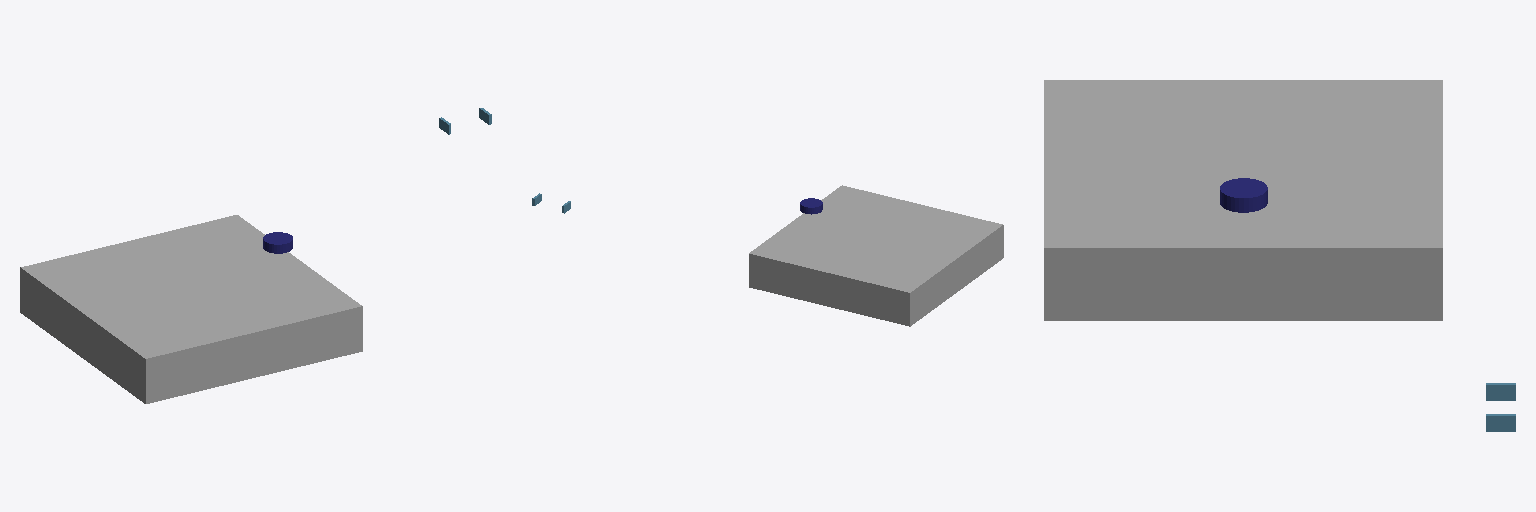
The robot description file, URDF, robot "ur5_robotiq_85":
<?xml version="1.0" ?>
<!-- =================================================================================== -->
<!-- |    This document was autogenerated by xacro from sisbot.xacro                   | -->
<!-- |    EDITING THIS FILE BY HAND IS NOT RECOMMENDED                                 | -->
<!-- =================================================================================== -->

<robot name="ur5_robotiq_85" xmlns:xacro="http://ros.org/wiki/xacro">

  <!-- <property name="mesh_prefix" value="../meshes"/> -->
  <!--################################################
  ########              arm                    #######
  ####################################################-->

  <link name="chassis_link">
    <visual>
      <geometry>
        <box size="0.5 0.5 0.1"/>
      </geometry>
      <material name="LightGrey">
        <color rgba="0.7 0.7 0.7 1.0"/>
      </material>
    </visual>
    <collision>
      <geometry>
        <box size="0.5 0.5 0.1"/>
      </geometry>
    </collision>
    <inertial>
      <mass value="20.0"/>
      <origin rpy="0 0 0" xyz="0.0 0.0 0.0"/>
      <inertia ixx="0.05" ixy="0.0" ixz="0.0" iyy="0.05" iyz="0.0" izz="0.1"/>
    </inertial>
  </link>

  <joint name="chassis_joint" type="fixed">
    <parent link="chassis_link"/>
    <child link="base_link"/>
    <origin rpy="0.0 0.0 0.0" xyz="0.0 0.0 0.1"/>
  </joint>

  <link name="lidar_link">
    <visual>
      <geometry>
        <cylinder length="0.02" radius="0.03"/>
      </geometry>
      <material name="blue">
        <color rgba="0.2 0.2 0.5 1.0"/>
      </material>
    </visual>
    <inertial>
      <mass value="40.0"/>
      <origin rpy="0 0 0" xyz="0.0 0.0 0.0"/>
      <inertia ixx="0.05" ixy="0.0" ixz="0.0" iyy="0.05" iyz="0.0" izz="0.1"/>
    </inertial>
  </link>

  <joint name="lidar_joint" type="fixed">
    <parent link="chassis_link"/>
    <child link="lidar_link"/>
    <origin rpy="0.0 0.0 0.0" xyz="0.2 0.0 0.1"/>
  </joint>

  <link name="base_link">
    <visual>
      <geometry>
        <mesh filename="../meshes/ur5/visual/base.obj"/>
      </geometry>
      <material name="LightGrey">
        <color rgba="0.7 0.7 0.7 1.0"/>
      </material>
    </visual>
    <collision>
      <geometry>
        <mesh filename="../meshes/ur5/collision/base.stl"/>
      </geometry>
    </collision>
    <inertial>
      <mass value="4.0"/>
      <origin rpy="0 0 0" xyz="0.0 0.0 0.0"/>
      <inertia ixx="0.00443333156" ixy="0.0" ixz="0.0" iyy="0.00443333156" iyz="0.0" izz="0.0072"/>
    </inertial>
  </link>

  <joint name="shoulder_pan_joint" type="revolute">
    <parent link="base_link"/>
    <child link="shoulder_link"/>
    <origin rpy="0.0 0.0 0.0" xyz="0.0 0.0 0.089159"/>
    <axis xyz="0 0 1"/>
    <limit effort="150.0" lower="-3.14159265359" upper="3.14159265359" velocity="3.15"/>
    <dynamics damping="0.0" friction="0.0"/>
  </joint>
  <link name="shoulder_link">
    <visual>
      <geometry>
        <mesh filename="../meshes/ur5/visual/shoulder.obj"/>
      </geometry>
      <material name="UR-Blue">
        <color rgba="0.376 0.576 0.674 1.0"/>
      </material>
    </visual>
    <collision>
      <geometry>
        <mesh filename="../meshes/ur5/collision/shoulder.stl"/>
      </geometry>
    </collision>
    <inertial>
      <mass value="3.7"/>
      <origin rpy="0 0 0" xyz="0.0 0.0 0.0"/>
      <inertia ixx="0.010267495893" ixy="0.0" ixz="0.0" iyy="0.010267495893" iyz="0.0" izz="0.00666"/>
    </inertial>
  </link>
  <joint name="shoulder_lift_joint" type="revolute">
    <parent link="shoulder_link"/>
    <child link="upper_arm_link"/>
    <origin rpy="0.0 1.57079632679 0.0" xyz="0.0 0.13585 0.0"/>
    <axis xyz="0 1 0"/>
    <limit effort="150.0" lower="-3.14159265359" upper="3.14159265359" velocity="3.15"/>
    <dynamics damping="0.0" friction="0.0"/>
  </joint>
  <link name="upper_arm_link">
    <visual>
      <geometry>
        <mesh filename="../meshes/ur5/visual/upperarm.obj"/>
      </geometry>
      <material name="LightGrey">
        <color rgba="0.7 0.7 0.7 1.0"/>
      </material>
    </visual>
    <collision>
      <geometry>
        <mesh filename="../meshes/ur5/collision/upperarm.stl"/>
      </geometry>
    </collision>
    <inertial>
      <mass value="8.393"/>
      <origin rpy="0 0 0" xyz="0.0 0.0 0.28"/>
      <inertia ixx="0.22689067591" ixy="0.0" ixz="0.0" iyy="0.22689067591" iyz="0.0" izz="0.0151074"/>
    </inertial>
  </link>
  <joint name="elbow_joint" type="revolute">
    <parent link="upper_arm_link"/>
    <child link="forearm_link"/>
    <origin rpy="0.0 0.0 0.0" xyz="0.0 -0.1197 0.425"/>
    <axis xyz="0 1 0"/>
    <limit effort="150.0" lower="-3.14159265359" upper="3.14159265359" velocity="3.15"/>
    <dynamics damping="0.0" friction="0.0"/>
  </joint>
  <link name="forearm_link">
    <visual>
      <geometry>
        <mesh filename="../meshes/ur5/visual/forearm.obj"/>
      </geometry>
      <material name="LightGrey">
        <color rgba="0.7 0.7 0.7 1.0"/>
      </material>
    </visual>
    <collision>
      <geometry>
        <mesh filename="../meshes/ur5/collision/forearm.stl"/>
      </geometry>
    </collision>
    <inertial>
      <mass value="2.275"/>
      <origin rpy="0 0 0" xyz="0.0 0.0 0.25"/>
      <inertia ixx="0.049443313556" ixy="0.0" ixz="0.0" iyy="0.049443313556" iyz="0.0" izz="0.004095"/>
    </inertial>
  </link>
  <joint name="wrist_1_joint" type="revolute">
    <parent link="forearm_link"/>
    <child link="wrist_1_link"/>
    <origin rpy="0.0 1.57079632679 0.0" xyz="0.0 0.0 0.39225"/>
    <axis xyz="0 1 0"/>
    <limit effort="28.0" lower="-3.14159265359" upper="3.14159265359" velocity="3.2"/>
    <dynamics damping="0.0" friction="0.0"/>
  </joint>
  <link name="wrist_1_link">
    <visual>
      <geometry>
        <mesh filename="../meshes/ur5/visual/wrist1.obj"/>
      </geometry>
      <material name="UR-Blue">
        <color rgba="0.376 0.576 0.674 1.0"/>
      </material>
    </visual>
    <collision>
      <geometry>
        <mesh filename="../meshes/ur5/collision/wrist1.stl"/>
      </geometry>
    </collision>
    <inertial>
      <mass value="1.219"/>
      <origin rpy="0 0 0" xyz="0.0 0.0 0.0"/>
      <inertia ixx="0.111172755531" ixy="0.0" ixz="0.0" iyy="0.111172755531" iyz="0.0" izz="0.21942"/>
    </inertial>
  </link>
  <joint name="wrist_2_joint" type="revolute">
    <parent link="wrist_1_link"/>
    <child link="wrist_2_link"/>
    <origin rpy="0.0 0.0 0.0" xyz="0.0 0.093 0.0"/>
    <axis xyz="0 0 1"/>
    <limit effort="28.0" lower="-3.14159265359" upper="3.14159265359" velocity="3.2"/>
    <dynamics damping="0.0" friction="0.0"/>
  </joint>
  <link name="wrist_2_link">
    <visual>
      <geometry>
        <mesh filename="../meshes/ur5/visual/wrist2.obj"/>
      </geometry>
      <material name="DarkGray">
        <color rgba="0.5 0.5 0.5 1.0"/>
      </material>
    </visual>
    <collision>
      <geometry>
        <mesh filename="../meshes/ur5/collision/wrist2.stl"/>
      </geometry>
    </collision>
    <inertial>
      <mass value="1.219"/>
      <origin rpy="0 0 0" xyz="0.0 0.0 0.0"/>
      <inertia ixx="0.111172755531" ixy="0.0" ixz="0.0" iyy="0.111172755531" iyz="0.0" izz="0.21942"/>
    </inertial>
  </link>
  <joint name="wrist_3_joint" type="revolute">
    <parent link="wrist_2_link"/>
    <child link="wrist_3_link"/>
    <origin rpy="0.0 0.0 0.0" xyz="0.0 0.0 0.09465"/>
    <axis xyz="0 1 0"/>
    <limit effort="28.0" lower="-3.14159265359" upper="3.14159265359" velocity="3.2"/>
    <dynamics damping="0.0" friction="0.0"/>
  </joint>
  <link name="wrist_3_link">
    <visual>
      <geometry>
        <mesh filename="../meshes/ur5/visual/wrist3.obj"/>
      </geometry>
      <material name="LightGrey">
        <color rgba="0.7 0.7 0.7 1.0"/>
      </material>
    </visual>
    <collision>
      <geometry>
        <mesh filename="../meshes/ur5/collision/wrist3.stl"/>
      </geometry>
    </collision>
    <inertial>
      <mass value="0.1879"/>
      <origin rpy="0 0 0" xyz="0.0 0.0 0.0"/>
      <inertia ixx="0.0171364731454" ixy="0.0" ixz="0.0" iyy="0.0171364731454" iyz="0.0" izz="0.033822"/>
    </inertial>
  </link>
  <joint name="ee_fixed_joint" type="fixed">
    <parent link="wrist_3_link"/>
    <child link="ee_link"/>
    <origin rpy="0.0 0.0 1.57079632679" xyz="0.0 0.0823 0.0"/>
  </joint>
  <link name="ee_link">
    <collision>
      <geometry>
        <box size="0.01 0.01 0.01"/>
      </geometry>
      <origin rpy="0 0 0" xyz="-0.01 0 0"/>
    </collision>
    <inertial>
      <mass value="0.01"/>
      <origin rpy="0 0 0" xyz="0.0 0.0 0.0"/>
      <inertia ixx="0.001" ixy="0.0" ixz="0.0" iyy="0.001" iyz="0.0" izz="0.001"/>
    </inertial>
  </link>

  <!--################################################
  ########              gripper                  #####
  ####################################################-->

  <link name="robotiq_arg2f_base_link">
    <inertial>
      <origin rpy="0 0 0" xyz="8.625E-08 -4.6583E-06 0.03145"/>
      <mass value="0.22652"/>
      <inertia ixx="0.00020005" ixy="-4.2442E-10" ixz="-2.9069E-10" iyy="0.00017832" iyz="-3.4402E-08" izz="0.00013478"/>
    </inertial>
    <visual>
      <origin rpy="0 0 0" xyz="0 0 0"/>
      <geometry>
        <mesh filename="../meshes/robotiq_85/visual/robotiq_arg2f_85_base_link.dae" scale="0.001 0.001 0.001"/>
      </geometry>
      <material name="LightGrey">
        <color rgba="0.7 0.7 0.7 1.0"/>
      </material>
    </visual>
    <collision>
      <origin rpy="0 0 0" xyz="0 0 0"/>
      <geometry>
        <mesh filename="../meshes/robotiq_85/collision/robotiq_arg2f_base_link.stl"/>
      </geometry>
    </collision>
  </link>
  <joint name="finger_joint" type="revolute">
    <origin rpy="0 0 3.14159265359" xyz="0 -0.0306011 0.054904"/>
    <parent link="robotiq_arg2f_base_link"/>
    <child link="left_outer_knuckle"/>
    <axis xyz="1 0 0"/>
    <limit effort="1000" lower="0" upper="0.8" velocity="2.0"/>
  </joint>
  <link name="left_outer_knuckle">
    <inertial>
        <origin xyz="-0.000200000000003065 0.0199435877845359 0.0292245259211331" rpy="0 0 0" />
        <mass value="0.00853198276973456" />
        <inertia ixx="2.89328108496468E-06" ixy="-1.57935047237397E-19" ixz="-1.93980378593255E-19" iyy="1.86719750325683E-06" iyz="-1.21858577871576E-06" izz="1.21905238907251E-06" />
        </inertial>
    <visual>
      <origin rpy="0 0 0" xyz="0 0 0"/>
      <geometry>
        <mesh filename="../meshes/robotiq_85/visual/robotiq_arg2f_85_outer_knuckle.dae" scale="0.001 0.001 0.001"/>
      </geometry>
      <material name="">
        <color rgba="1 1 0 1"/>
      </material>
    </visual>
    <collision>
      <origin rpy="0 0 0" xyz="0 0 0"/>
      <geometry>
        <mesh filename="../meshes/robotiq_85/collision/robotiq_arg2f_85_outer_knuckle.dae" scale="0.001 0.001 0.001"/>
      </geometry>
    </collision>
  </link>
  <joint name="left_outer_finger_joint" type="fixed">
    <origin rpy="0 0 0" xyz="0 0.0315 -0.0041"/>
    <parent link="left_outer_knuckle"/>
    <child link="left_outer_finger"/>
    <axis xyz="1 0 0"/>
  </joint>
  <link name="left_outer_finger">
    <inertial>
        <origin xyz="0.00030115855001899 0.0373907951953854 -0.0208027427000385" rpy="0 0 0" />
        <mass value="0.022614240507152" />
        <inertia ixx="1.52518312458174E-05" ixy="9.76583423954399E-10" ixz="-5.43838577022588E-10" iyy="6.17694243867776E-06" iyz="6.78636130740228E-06" izz="1.16494917907219E-05" />
        </inertial>
    <visual>
      <origin rpy="0 0 0" xyz="0 0 0"/>
      <geometry>
        <mesh filename="../meshes/robotiq_85/visual/robotiq_arg2f_85_outer_finger.dae" scale="0.001 0.001 0.001"/>
      </geometry>
      <material name="LightGrey">
        <color rgba="0 1 1 1.0"/>
      </material>
    </visual>
    <collision>
      <origin rpy="0 0 0" xyz="0 0 0"/>
      <geometry>
        <mesh filename="../meshes/robotiq_85/collision/robotiq_arg2f_85_outer_finger.dae" scale="0.001 0.001 0.001"/>
      </geometry>
    </collision>
  </link>
  <joint name="left_inner_finger_joint" type="revolute">
    <origin rpy="0 0 0" xyz="0 0.0061 0.0471"/>
    <parent link="left_outer_finger"/>
    <child link="left_inner_finger"/>
    <axis xyz="1 0 0"/>
    <limit effort="1000" lower="-0.8757" upper="0" velocity="2.0"/>
    <mimic joint="finger_joint" multiplier="-1" offset="0"/>
  </joint>
  <link name="left_inner_finger">
    <inertial>
        <origin xyz="0.000299999999999317 0.0160078233491243 -0.0136945669206257" rpy="0 0 0" />
        <mass value="0.0104003125914103" />
        <inertia ixx="2.71909453810972E-06" ixy="1.35402465472579E-21" ixz="-7.1817349065269E-22" iyy="7.69100314106116E-07" iyz="6.74715432769696E-07" izz="2.30315190420171E-06" />
        </inertial>
    <visual>
      <origin rpy="0 0 0" xyz="0 0 0"/>
      <geometry>
        <mesh filename="../meshes/robotiq_85/visual/robotiq_arg2f_85_inner_finger.dae" scale="0.001 0.001 0.001"/>
      </geometry>
      <material name="LightGrey">
        <color rgba="1 0 1 1.0"/>
      </material>
    </visual>
    <collision>
      <origin rpy="0 0 0" xyz="0 0 0"/>
      <geometry>
        <mesh filename="../meshes/robotiq_85/collision/robotiq_arg2f_85_inner_finger.dae" scale="0.001 0.001 0.001"/>
      </geometry>
    </collision>
  </link>
  <joint name="left_inner_finger_pad_joint" type="fixed">
    <origin rpy="0 0 0" xyz="0 -0.0220203446692936 0.03242"/>
    <parent link="left_inner_finger"/>
    <child link="left_inner_finger_pad"/>
    <axis xyz="0 0 1"/>
  </joint>
  <link name="left_inner_finger_pad">
    <inertial>
      <mass value="1."/>
      <inertia ixx="0.0001" ixy="0.0" ixz="0.0" iyy="0.0001" iyz="0.0" izz="0.0001"/>
    </inertial>
    <visual>
      <origin rpy="0 0 0" xyz="0 0 0"/>
      <geometry>
        <box size="0.022 0.00635 0.0375"/>
      </geometry>
      <material name="UR-Blue">
        <color rgba="0.376 0.576 0.674 1.0"/>
      </material>
    </visual>
    <collision>
      <origin rpy="0 0 0" xyz="0 0 0"/>
      <geometry>
        <box size="0.022 0.00635 0.0375"/>
      </geometry>
      <material name="">
        <color rgba="0.9 0.0 0.0 1"/>
      </material>
    </collision>
  </link>
  <joint name="left_inner_knuckle_joint" type="revolute">
    <!-- <origin xyz="0 ${reflect * -0.0127} 0.06142" rpy="${pi / 2 + .725} 0 ${(reflect - 1) * pi / 2}" /> -->
    <origin rpy="0 0 3.14159265359" xyz="0 -0.0127 0.06142"/>
    <parent link="robotiq_arg2f_base_link"/>
    <child link="left_inner_knuckle"/>
    <axis xyz="1 0 0"/>
    <limit effort="1000" lower="0" upper="0.8757" velocity="2.0"/>
    <mimic joint="finger_joint" multiplier="1" offset="0"/>
  </joint>
  <link name="left_inner_knuckle">
    <inertial>
        <origin xyz="0.000123011831763771 0.0507850843201817 0.00103968640075166" rpy="0 0 0" />
       <mass value="0.0271177346495152" />
        <inertia ixx="2.61910379223783E-05" ixy="-2.43616858946494E-07" ixz="-6.37789906117123E-09" iyy="2.8270243746167E-06" iyz="-5.37200748039765E-07" izz="2.83695868220296E-05" />
        </inertial>
    <visual>
      <origin rpy="0 0 0" xyz="0 0 0"/>
      <geometry>
        <mesh filename="../meshes/robotiq_85/visual/robotiq_arg2f_85_inner_knuckle.dae" scale="0.001 0.001 0.001"/>
      </geometry>
      <material name="LightGrey">
        <color rgba="0 0 1 1.0"/>
      </material>
    </visual>
    <collision>
      <origin rpy="0 0 0" xyz="0 0 0"/>
      <geometry>
        <mesh filename="../meshes/robotiq_85/collision/robotiq_arg2f_85_inner_knuckle.dae" scale="0.001 0.001 0.001"/>
      </geometry>
    </collision>
  </link>
  <joint name="right_outer_knuckle_joint" type="revolute">
    <origin rpy="0 0 0" xyz="0 0.0306011 0.054904"/>
    <parent link="robotiq_arg2f_base_link"/>
    <child link="right_outer_knuckle"/>
    <axis xyz="1 0 0"/>
    <limit effort="1000" lower="0" upper="0.81" velocity="2.0"/>
    <mimic joint="finger_joint" multiplier="1" offset="0"/>
  </joint>
  <link name="right_outer_knuckle">
    <inertial>
        <origin xyz="-0.000200000000003065 0.0199435877845359 0.0292245259211331" rpy="0 0 0" />
        <mass value="0.00853198276973456" />
        <inertia ixx="2.89328108496468E-06" ixy="-1.57935047237397E-19" ixz="-1.93980378593255E-19" iyy="1.86719750325683E-06" iyz="-1.21858577871576E-06" izz="1.21905238907251E-06" />
        </inertial>
    <visual>
      <origin rpy="0 0 0" xyz="0 0 0"/>
      <geometry>
        <mesh filename="../meshes/robotiq_85/visual/robotiq_arg2f_85_outer_knuckle.dae" scale="0.001 0.001 0.001"/>
      </geometry>
      <material name="">
        <color rgba="0.792156862745098 0.819607843137255 0.933333333333333 1"/>
      </material>
    </visual>
    <collision>
      <origin rpy="0 0 0" xyz="0 0 0"/>
      <geometry>
        <mesh filename="../meshes/robotiq_85/collision/robotiq_arg2f_85_outer_knuckle.dae" scale="0.001 0.001 0.001"/>
      </geometry>
    </collision>
  </link>
  <joint name="right_outer_finger_joint" type="fixed">
    <origin rpy="0 0 0" xyz="0 0.0315 -0.0041"/>
    <parent link="right_outer_knuckle"/>
    <child link="right_outer_finger"/>
    <axis xyz="1 0 0"/>
  </joint>
  <link name="right_outer_finger">
    <inertial>
        <origin xyz="0.00030115855001899 0.0373907951953854 -0.0208027427000385" rpy="0 0 0" />
        <mass value="0.022614240507152" />
        <inertia ixx="1.52518312458174E-05" ixy="9.76583423954399E-10" ixz="-5.43838577022588E-10" iyy="6.17694243867776E-06" iyz="6.78636130740228E-06" izz="1.16494917907219E-05" />
        </inertial>
    <visual>
      <origin rpy="0 0 0" xyz="0 0 0"/>
      <geometry>
        <mesh filename="../meshes/robotiq_85/visual/robotiq_arg2f_85_outer_finger.dae" scale="0.001 0.001 0.001"/>
      </geometry>
      <material name="LightGrey">
        <color rgba="0.7 0.7 0.7 1.0"/>
      </material>
    </visual>
    <collision>
      <origin rpy="0 0 0" xyz="0 0 0"/>
      <geometry>
        <mesh filename="../meshes/robotiq_85/collision/robotiq_arg2f_85_outer_finger.dae" scale="0.001 0.001 0.001"/>
      </geometry>
    </collision>
  </link>
  <joint name="right_inner_finger_joint" type="revolute">
    <origin rpy="0 0 0" xyz="0 0.0061 0.0471"/>
    <parent link="right_outer_finger"/>
    <child link="right_inner_finger"/>
    <axis xyz="1 0 0"/>
    <limit effort="1000" lower="-0.8757" upper="0" velocity="2.0"/>
    <mimic joint="finger_joint" multiplier="-1" offset="0"/>
  </joint>
  <link name="right_inner_finger">
    <inertial>
        <origin xyz="0.000299999999999317 0.0160078233491243 -0.0136945669206257" rpy="0 0 0" />
        <mass value="0.0104003125914103" />
        <inertia ixx="2.71909453810972E-06" ixy="1.35402465472579E-21" ixz="-7.1817349065269E-22" iyy="7.69100314106116E-07" iyz="6.74715432769696E-07" izz="2.30315190420171E-06" />
        </inertial>
    <visual>
      <origin rpy="0 0 0" xyz="0 0 0"/>
      <geometry>
        <mesh filename="../meshes/robotiq_85/visual/robotiq_arg2f_85_inner_finger.dae" scale="0.001 0.001 0.001"/>
      </geometry>
      <material name="">
        <color rgba="0.1 0.1 0.1 1"/>
      </material>
    </visual>
    <collision>
      <origin rpy="0 0 0" xyz="0 0 0"/>
      <geometry>
        <mesh filename="../meshes/robotiq_85/collision/robotiq_arg2f_85_inner_finger.dae" scale="0.001 0.001 0.001"/>
      </geometry>
    </collision>
  </link>
  <joint name="right_inner_finger_pad_joint" type="fixed">
    <origin rpy="0 0 0" xyz="0 -0.0220203446692936 0.03242"/>
    <parent link="right_inner_finger"/>
    <child link="right_inner_finger_pad"/>
    <axis xyz="0 0 1"/>
  </joint>
  <link name="right_inner_finger_pad">
    <inertial>
      <mass value="1"/>
      <inertia ixx="0.0001" ixy="0.0" ixz="0.0" iyy="0.0001" iyz="0.0" izz="0.0001"/>
    </inertial>
    <visual>
      <origin rpy="0 0 0" xyz="0 0 0"/>
      <geometry>
        <box size="0.022 0.00635 0.0375"/>
      </geometry>
      <material name="UR-Blue">
        <color rgba="0.376 0.576 0.674 1.0"/>
      </material>
    </visual>
    <collision>
      <origin rpy="0 0 0" xyz="0 0 0"/>
      <geometry>
        <box size="0.022 0.00635 0.0375"/>
      </geometry>
      <material name="LightGrey">
        <color rgba="0.7 0.7 0.7 1.0"/>
      </material>
    </collision>
  </link>
  <joint name="right_inner_knuckle_joint" type="revolute">
    <!-- <origin xyz="0 ${reflect * -0.0127} 0.06142" rpy="${pi / 2 + .725} 0 ${(reflect - 1) * pi / 2}" /> -->
    <origin rpy="0 0 0.0" xyz="0 0.0127 0.06142"/>
    <parent link="robotiq_arg2f_base_link"/>
    <child link="right_inner_knuckle"/>
    <axis xyz="1 0 0"/>
    <limit effort="1000" lower="0" upper="0.8757" velocity="2.0"/>
    <mimic joint="finger_joint" multiplier="1" offset="0"/>
  </joint>
  <link name="right_inner_knuckle">
    <inertial>
        <origin xyz="0.000123011831763771 0.0507850843201817 0.00103968640075166" rpy="0 0 0" />
       <mass value="0.0271177346495152" />
        <inertia ixx="2.61910379223783E-05" ixy="-2.43616858946494E-07" ixz="-6.37789906117123E-09" iyy="2.8270243746167E-06" iyz="-5.37200748039765E-07" izz="2.83695868220296E-05" />
        </inertial>
    <visual>
      <origin rpy="0 0 0" xyz="0 0 0"/>
      <geometry>
        <mesh filename="../meshes/robotiq_85/visual/robotiq_arg2f_85_inner_knuckle.dae" scale="0.001 0.001 0.001"/>
      </geometry>
      <material name="LightGrey">
        <color rgba="0.7 0.7 0.7 1.0"/>
      </material>
    </visual>
    <collision>
      <origin rpy="0 0 0" xyz="0 0 0"/>
      <geometry>
        <mesh filename="../meshes/robotiq_85/collision/robotiq_arg2f_85_inner_knuckle.dae" scale="0.001 0.001 0.001"/>
      </geometry>
    </collision>
  </link>

<!--################################################
  ########          connect model                #####
  ####################################################-->

  <link name="world"/>
  <link name="chassis_link_x">
  <inertial>
        <origin xyz="0 0 0 " rpy="0 0 0" />
        <mass value="0" />
        <inertia ixx="0" ixy="0" ixz="0" iyy="0" iyz="0" izz="0" />
        </inertial>
  </link>
  <link name="chassis_link_y">
  <inertial>
        <origin xyz="0 0 0 " rpy="0 0 0" />
        <mass value="0" />
        <inertia ixx="0" ixy="0" ixz="0" iyy="0" iyz="0" izz="0" />
        </inertial>
  </link>
  <link name="chassis_link_theta">
  <inertial>
        <origin xyz="0 0 0 " rpy="0 0 0" />
        <mass value="0" />
        <inertia ixx="0" ixy="0" ixz="0" iyy="0" iyz="0" izz="0" />
        </inertial>
  </link>

  <!-- connect gripper to arm -->
  <joint name="robotiq_85_base_joint" type="fixed">
    <parent link="ee_link"/>
    <child link="robotiq_arg2f_base_link"/>
    <origin rpy="0 1.57079632679 0" xyz="0 0 0"/>
  </joint>

<!--  <joint name="arm_gripper_joint" type="fixed">-->
<!--    <parent link="ee_link"/>-->
<!--    <child link="robotiq_140_robotiq_arg2f_base_link"/>-->
<!--    <origin rpy="-1.57 1.57 -1.57" xyz="0.0 0.0 0.0"/>-->
<!--  </joint>-->

  <!-- connect arm to world -->
  

  <joint name="world_chassis_joint_x" type="prismatic">
    <parent link="world"/>
    <child link="chassis_link_x"/>
    <origin rpy="0.0 0.0 0" xyz="0 0 0"/>
    <limit effort="5000" velocity="3" lower="-100" upper="100"/>
    <axis xyz="1 0 0"/>
  </joint>

  <joint name="world_chassis_joint_y" type="prismatic">
    <parent link="chassis_link_x"/>
    <child link="chassis_link_y"/>
    <origin rpy="0.0 0.0 0" xyz="0 0 0"/>
    <limit effort="5000" velocity="3" lower="-100" upper="100"/>
    <axis xyz="0 1 0"/>
  </joint>

  <joint name="world_chassis_joint_theta" type="continuous">
    <parent link="chassis_link_y"/>
    <child link="chassis_link_theta"/>
    <origin rpy="0.0 0.0 0" xyz="0 0 0"/>
    <axis xyz="0 0 1"/>
  </joint>

  <joint name="world_chassis_joint_fixed" type="fixed">
    <parent link="chassis_link_theta"/>
    <child link="chassis_link"/>
    <origin rpy="0.0 0.0 0" xyz="0 0 0"/>
  </joint>

</robot>

--- Facts derived from the render (not from the file) ---
Views: 3 orthographic renders of the robot side by side, from view 1: azimuth 30°, elevation 25°; view 2: azimuth 150°, elevation 25°; view 3: azimuth 270°, elevation 25°.
Robot: ur5_robotiq_85 — 25 links, 24 joints (12 revolute, 1 continuous, 2 prismatic, 9 fixed); root link world; default pose: all joints at 0.
Visible links, largest first — view 1: chassis_link, lidar_link; view 2: chassis_link; view 3: chassis_link, lidar_link, left_inner_finger_pad, right_inner_finger_pad.
Boxes of the visible links, x1=… form: chassis_link: x1=20, y1=215, x2=362, y2=403; lidar_link: x1=263, y1=232, x2=292, y2=253; chassis_link: x1=749, y1=185, x2=1003, y2=326; chassis_link: x1=1044, y1=80, x2=1442, y2=320; lidar_link: x1=1220, y1=178, x2=1267, y2=212; left_inner_finger_pad: x1=1486, y1=383, x2=1515, y2=400; right_inner_finger_pad: x1=1486, y1=414, x2=1515, y2=431.
Bounding box of the posed robot: 1.12 × 0.5905 × 0.16 m (x, y, z).
Meshes: 12 distinct files referenced, 0 mesh visuals loaded (none loaded); not drawn: 16 (reference not matched to a file when rendering).